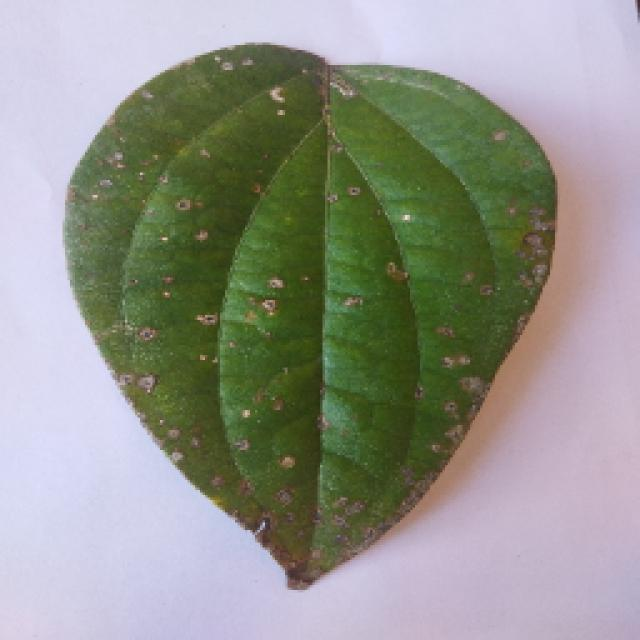pollu-disease: (45, 52, 593, 598)
